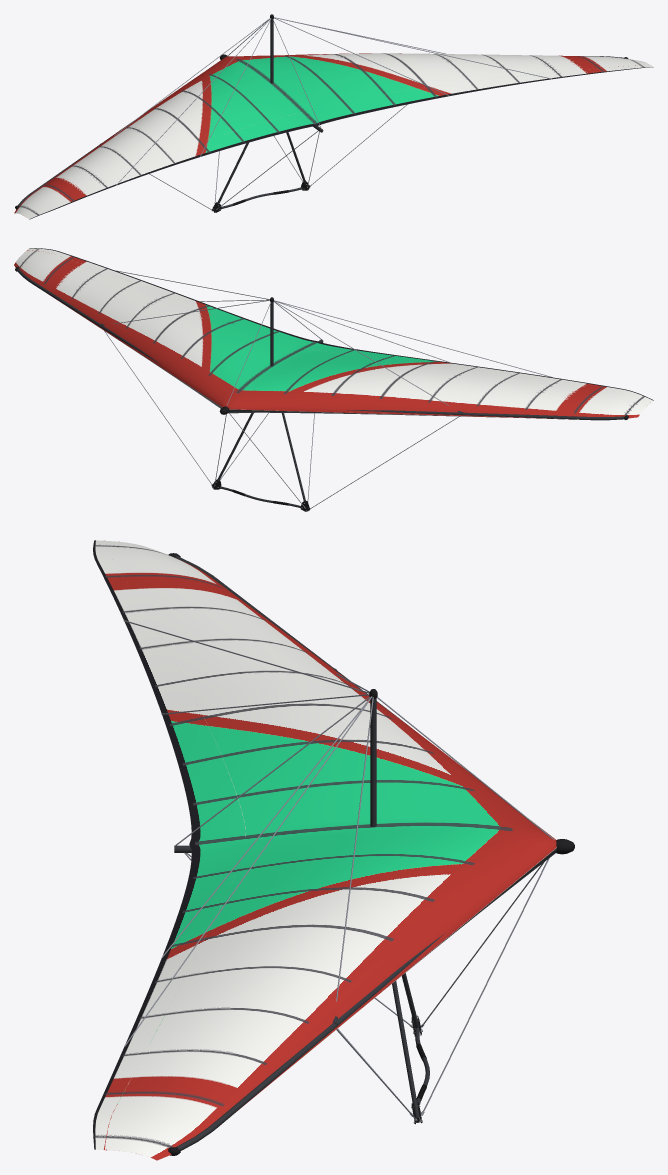
Rendered from glider_moyes_gecko.glb.
The picture shows the model from 3 angles, top to bottom: view 1: azimuth 30°, elevation 25°; view 2: azimuth 150°, elevation 25°; view 3: azimuth 270°, elevation 25°; orthographic projection. The views are drawn at different scales.
Visible parts, largest first — view 1: Sail, Frame, ControlFrame; view 2: Sail, Frame, ControlFrame; view 3: Sail, Frame, ControlFrame.
Part boxes in pixels (x1=…): Sail: x1=14, y1=53, x2=653, y2=219; Frame: x1=15, y1=14, x2=628, y2=209; ControlFrame: x1=149, y1=104, x2=407, y2=212; Sail: x1=14, y1=248, x2=653, y2=419; Frame: x1=15, y1=266, x2=628, y2=420; ControlFrame: x1=104, y1=331, x2=459, y2=511; Sail: x1=93, y1=540, x2=556, y2=1160; Frame: x1=123, y1=553, x2=574, y2=1155; ControlFrame: x1=184, y1=852, x2=549, y2=1124.
Size of the model in its own units: 9.7 by 2.9 by 3.24.
8 materials, 1 textured.
